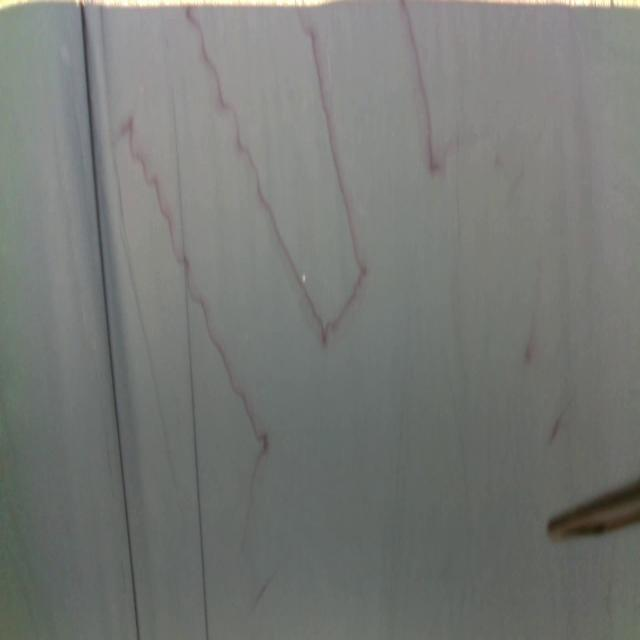crease: (78, 0, 141, 640), (171, 78, 209, 640)
